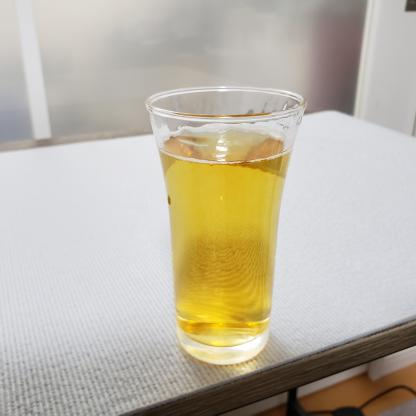glass: (140, 74, 318, 369)
